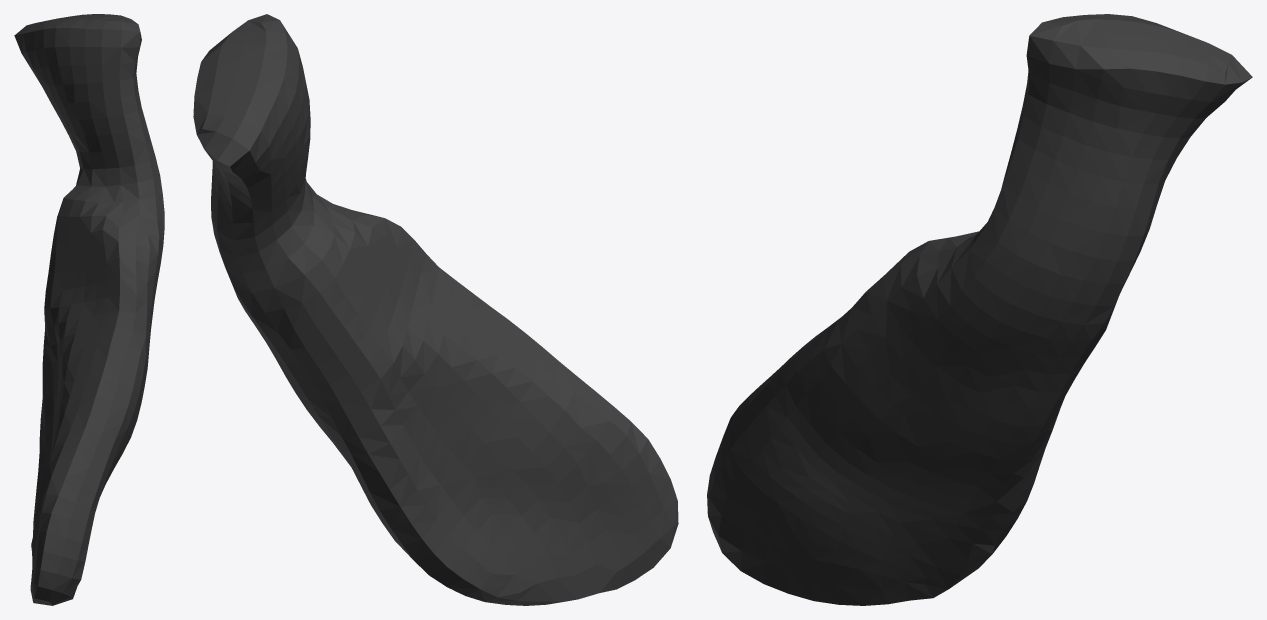
The model's file is canine_cardiac_crista_terminalis.glb.
The picture shows the model from 3 angles, left to right: view 1: azimuth 30°, elevation 25°; view 2: azimuth 150°, elevation 25°; view 3: azimuth 270°, elevation 25°; orthographic projection. The views are drawn at different scales.
Visible parts, largest first — view 1: canine_cardiac_crista_terminalis; view 2: canine_cardiac_crista_terminalis; view 3: canine_cardiac_crista_terminalis.
Part boxes in pixels (box(x1,y1,x2,y2)): canine_cardiac_crista_terminalis: box(14, 14, 164, 605); canine_cardiac_crista_terminalis: box(193, 14, 678, 605); canine_cardiac_crista_terminalis: box(707, 14, 1252, 605).
Size of the model in its own units: 0.00729 by 0.0143 by 0.0104.
1 material, 1 textured.
